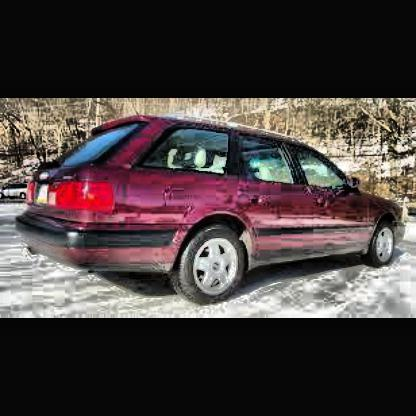Audi 100 Wagon 1994: (19, 117, 407, 307)
